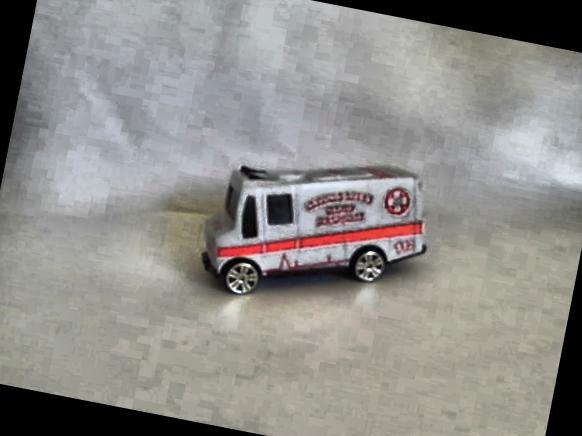ambulance: (193, 132, 441, 328)
